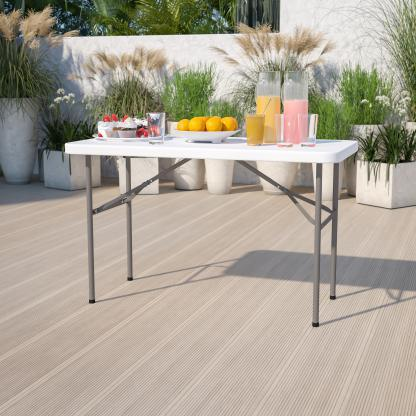table: (63, 127, 362, 330)
